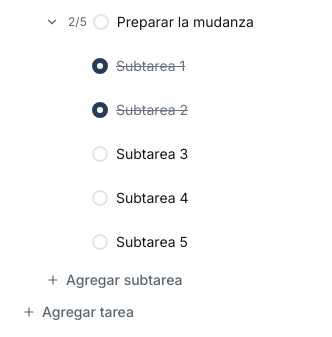
Test: TaskList — contador de subtareas directas (D-A/D-B/D-C/D-D) › completar una subtarea actualiza el contador de 2/5 a 3/5
Expected: the text "2/5" is shown, [68,14,87,30]
Click the checkbox named "Completar Subtarea 3".
click(100, 154)  # box [88,142,112,166]
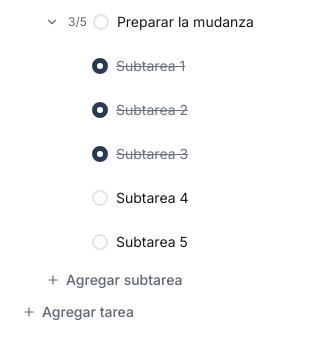
Result: the text "3/5" is shown at [68,14,87,30]
